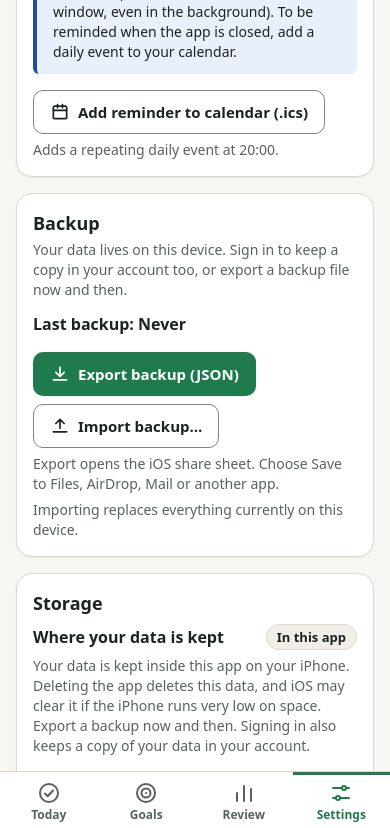
Test: QC M14 r2: iOS with Apple only (no Google client ids) › Export hint after a shared export: only Apple
This screenshot has width=390, height=828.
(page scrolled)
Step 1. Click the button "Export backup (JSON)" → point(144, 374), box [33, 352, 256, 396]
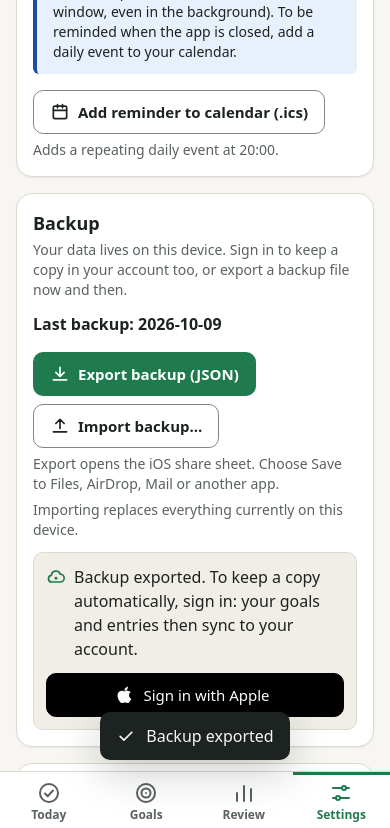
Expected: the buttons read "Sign in with Apple", in this order, [46, 673, 344, 717]
